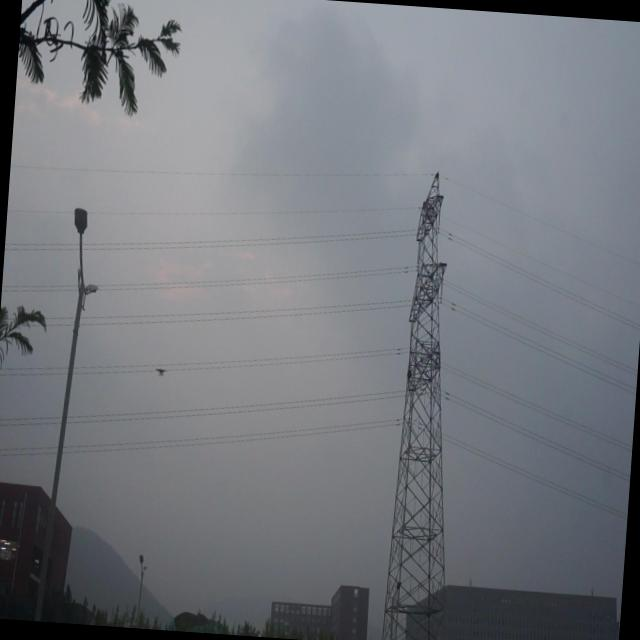drone: (155, 366, 166, 378)
